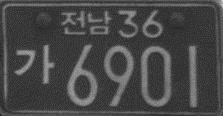0: (141, 44, 171, 108)
1: (186, 42, 199, 111)
3: (116, 8, 139, 38)
6: (67, 42, 99, 107), (142, 8, 163, 38)
9: (103, 43, 135, 109)
가: (13, 44, 54, 85)
전남_O: (59, 9, 112, 36)
